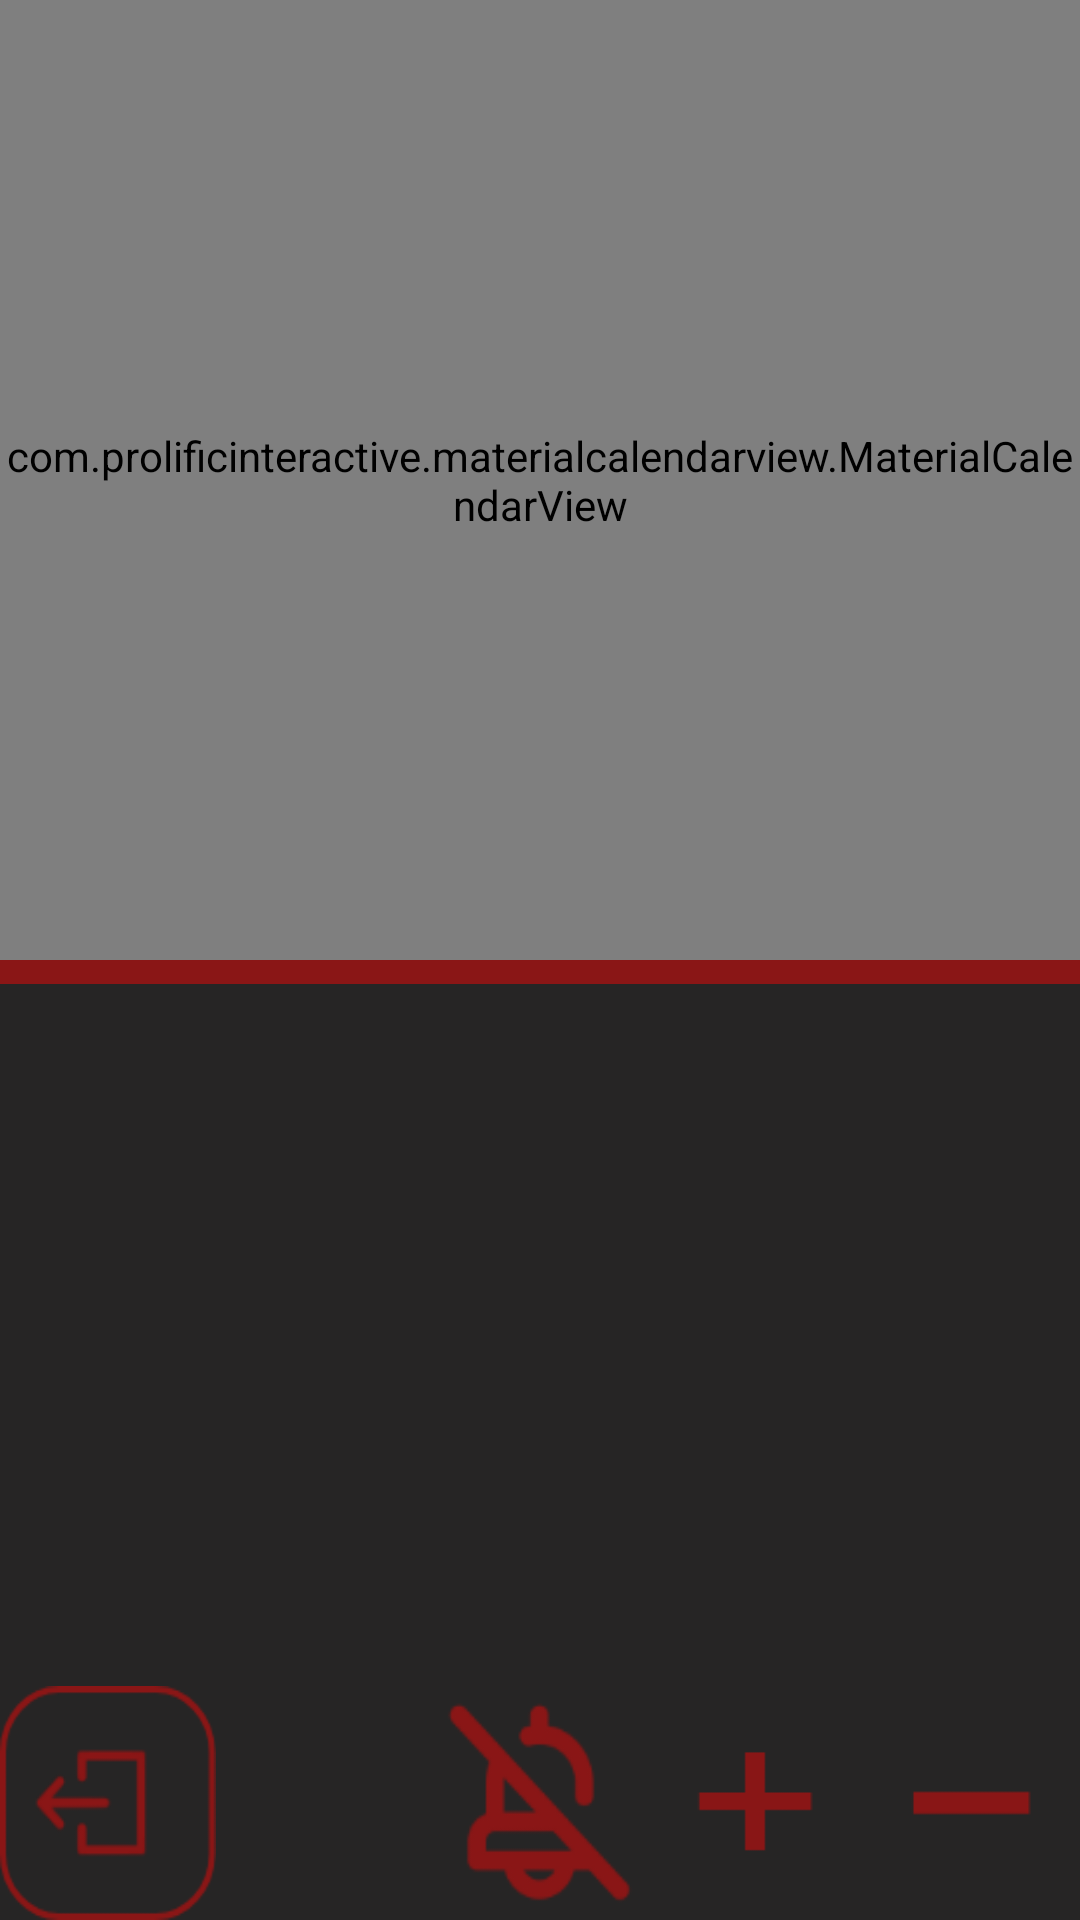

Locate icon controls on the screen. Image size 1080w x 1920h, boxes as (left=x1, top=y1, right=x2, bottom=y2).
minusicon: (left=913, top=1791, right=1030, bottom=1815)
nobell: (left=449, top=1705, right=630, bottom=1900)
pluss: (left=699, top=1752, right=812, bottom=1851)
quit: (left=0, top=1686, right=216, bottom=1920)
